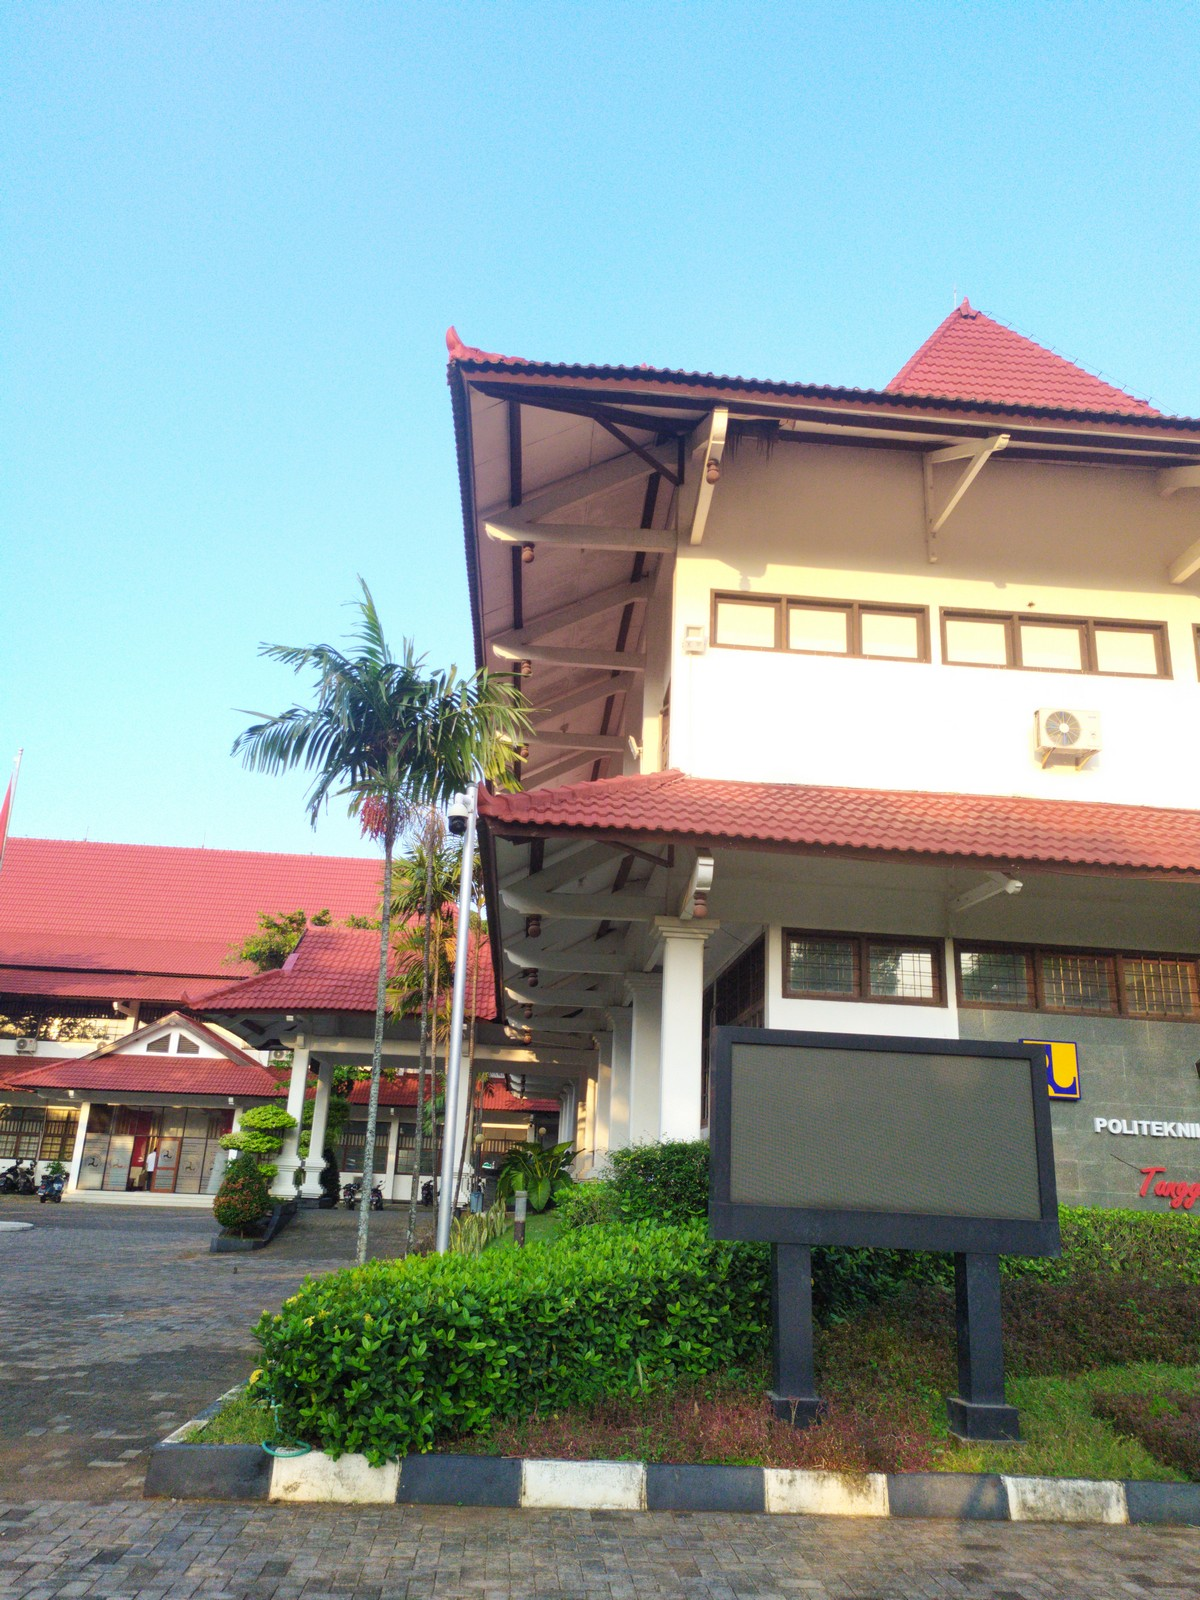concrete beam: (550, 887, 673, 929), (538, 641, 650, 677), (536, 949, 638, 979), (532, 728, 629, 755)
concrete column: (664, 489, 713, 774), (659, 934, 705, 1143), (626, 991, 664, 1148), (277, 1052, 308, 1168), (305, 1066, 337, 1162)
